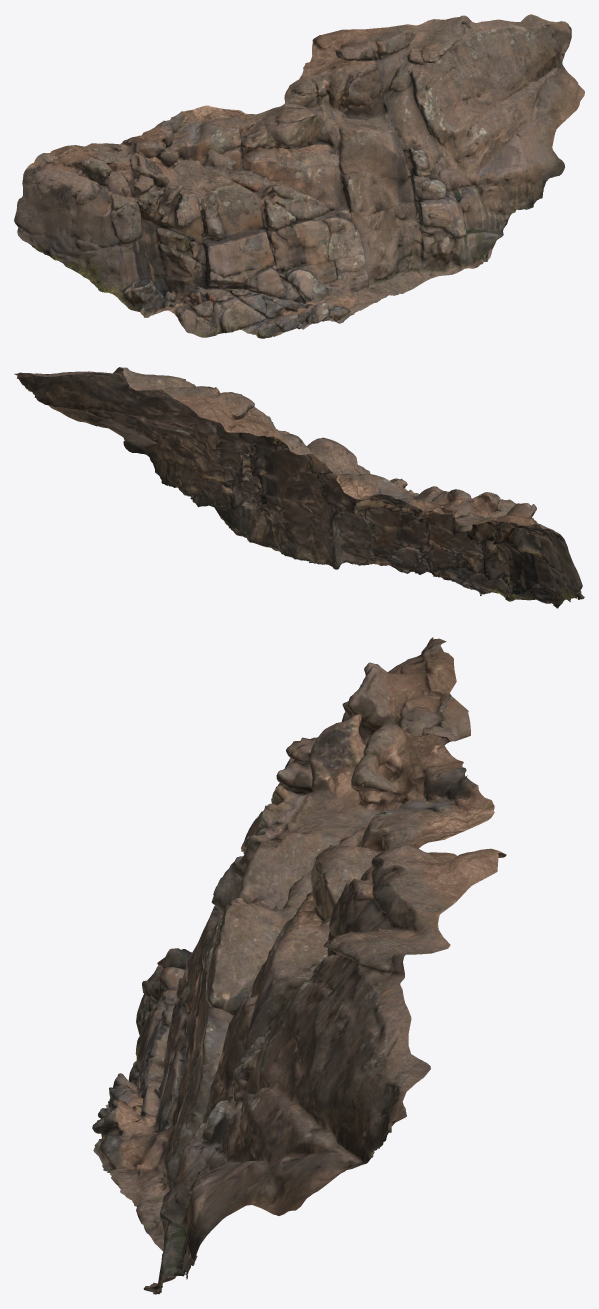
The model's file is namaqualand_cliff_02.glb.
The picture shows the model from 3 angles, top to bottom: view 1: azimuth 30°, elevation 25°; view 2: azimuth 150°, elevation 25°; view 3: azimuth 270°, elevation 25°; orthographic projection. The views are drawn at different scales.
Visible parts, largest first — view 1: drone_rock_02_LOD0; view 2: drone_rock_02_LOD0; view 3: drone_rock_02_LOD0.
Boxes of the visible parts, x1,y1,x2,y2 form: drone_rock_02_LOD0: [14, 14, 584, 338]; drone_rock_02_LOD0: [14, 367, 584, 608]; drone_rock_02_LOD0: [92, 637, 506, 1294].
Bounding box in the file's own units: 20.23 × 7.18 × 6.59.
Materials: 1 (1 with a texture image).
